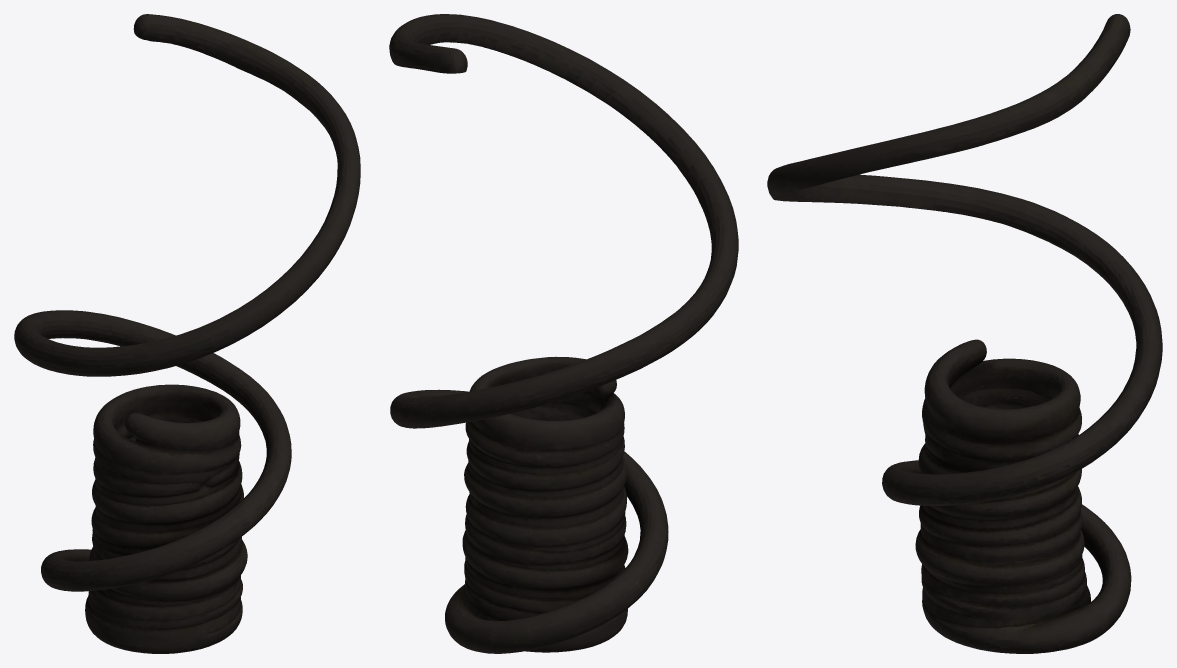
File: 03_8_gj_pen_holder3.glb
3 renders of one model, left to right at view 1: azimuth 30°, elevation 25°; view 2: azimuth 150°, elevation 25°; view 3: azimuth 270°, elevation 25°, orthographic. The views are drawn at different scales.
Parts seen in each view (by area): view 1: tripo_node_c0a17e56-9fe7-4d46-a1d1-e5ac4fa9490a.002; view 2: tripo_node_c0a17e56-9fe7-4d46-a1d1-e5ac4fa9490a.002; view 3: tripo_node_c0a17e56-9fe7-4d46-a1d1-e5ac4fa9490a.002.
Boxes of the visible parts, <box> form: tripo_node_c0a17e56-9fe7-4d46-a1d1-e5ac4fa9490a.002: <box>14,14,360,653</box>; tripo_node_c0a17e56-9fe7-4d46-a1d1-e5ac4fa9490a.002: <box>389,14,738,653</box>; tripo_node_c0a17e56-9fe7-4d46-a1d1-e5ac4fa9490a.002: <box>767,14,1162,653</box>.
Size of the model in its own units: 0.15 by 0.2803 by 0.162.
Materials: 1 (1 with a texture image).
